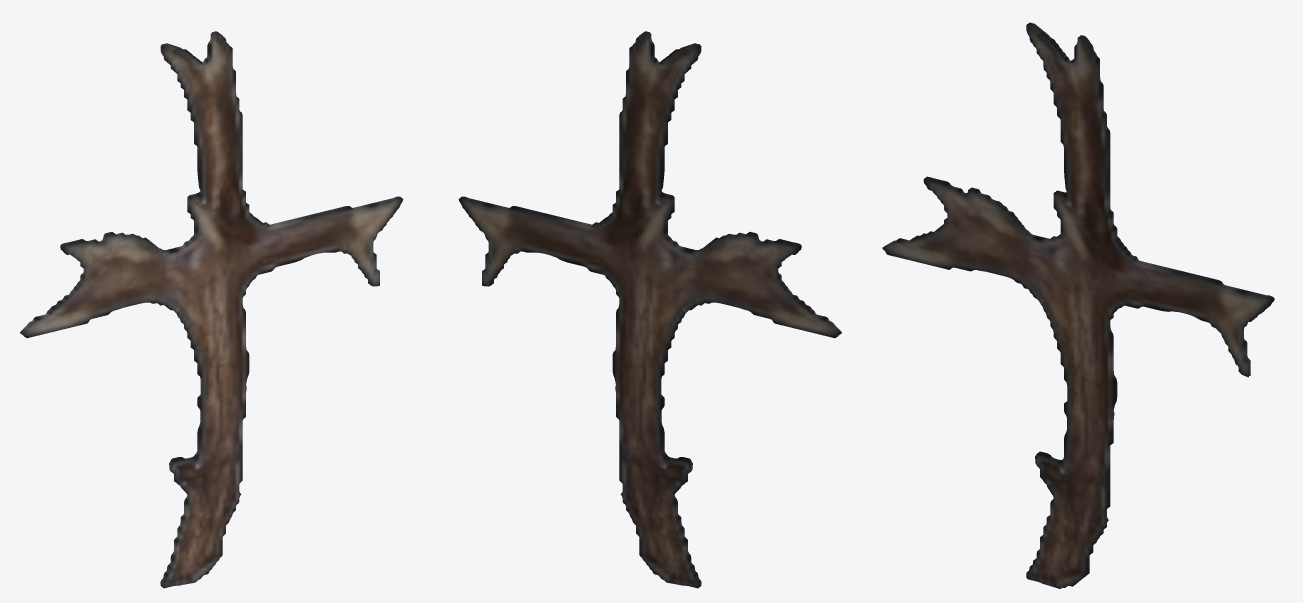
The model's file is swamp_cross_4.FBX.
3 renders of one model, left to right at view 1: azimuth 30°, elevation 25°; view 2: azimuth 150°, elevation 25°; view 3: azimuth 330°, elevation 25°, orthographic. The views are drawn at different scales.
Parts seen in each view (by area): view 1: swamp_cross_4; view 2: swamp_cross_4; view 3: swamp_cross_4.
Boxes of the visible parts, x1,y1,x2,y2 form: swamp_cross_4: (20, 31, 403, 588); swamp_cross_4: (458, 31, 841, 588); swamp_cross_4: (882, 22, 1274, 588).
Size of the model in its own units: 65.51 by 87.58 by 0.5303.
